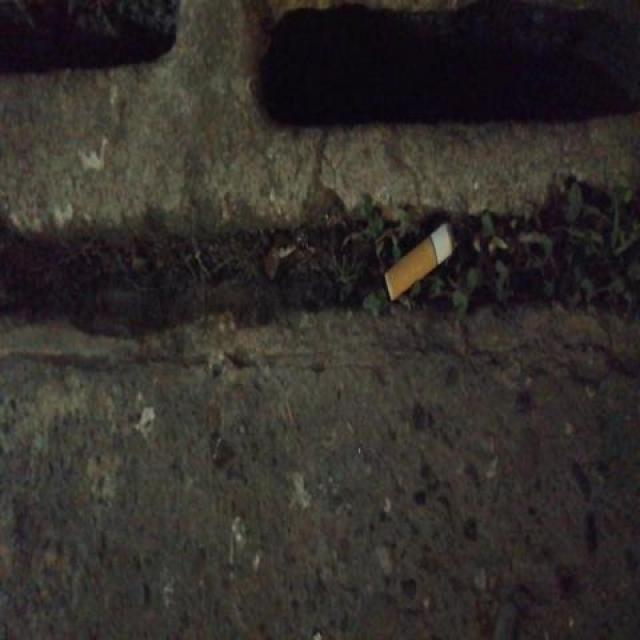non-organic waste: (382, 218, 462, 307)
